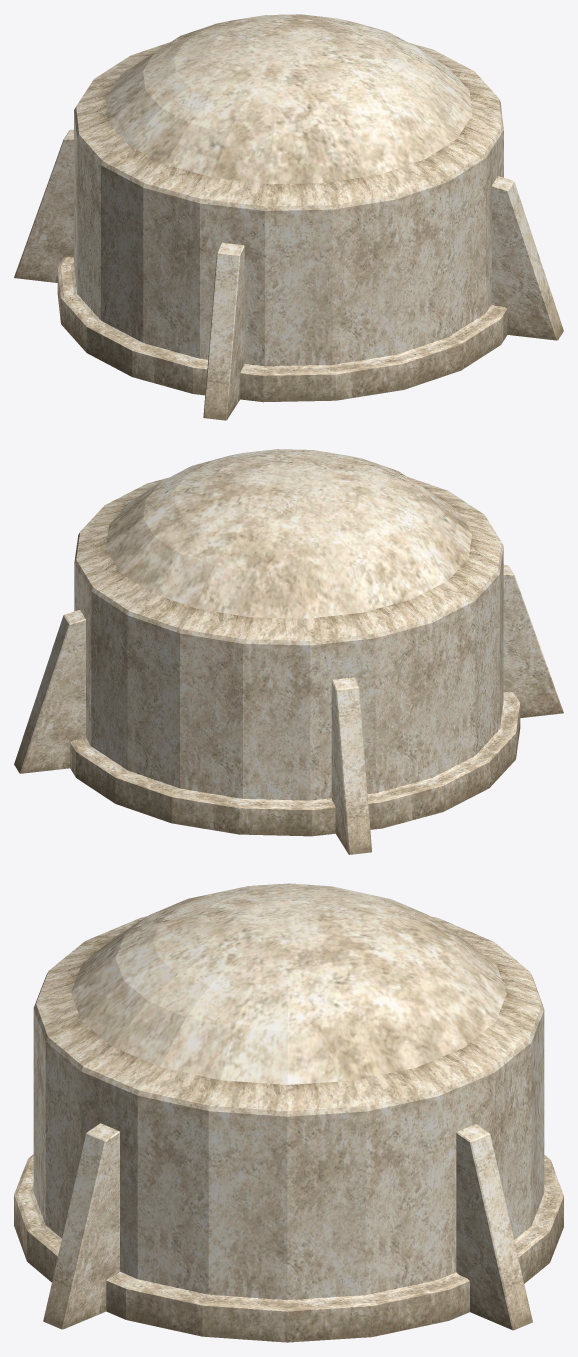
File: thm_tato_jnkshp_bldg_l0.fbx
The picture shows the model from 3 angles, top to bottom: view 1: azimuth 30°, elevation 25°; view 2: azimuth 150°, elevation 25°; view 3: azimuth 270°, elevation 25°; orthographic projection. The views are drawn at different scales.
Visible parts, largest first — view 1: mesh_node; view 2: mesh_node; view 3: mesh_node.
Part boxes in pixels (box(x1,y1,x2,y2)): mesh_node: box(14, 14, 563, 420); mesh_node: box(14, 449, 563, 854); mesh_node: box(14, 883, 563, 1342).
Bounding box in the file's own units: 9.05 × 5.61 × 9.05.
